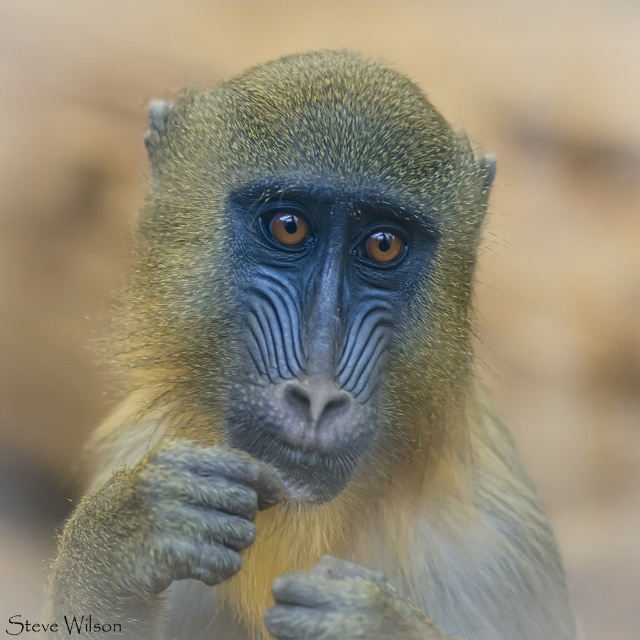Monkey: (42, 49, 583, 640)
